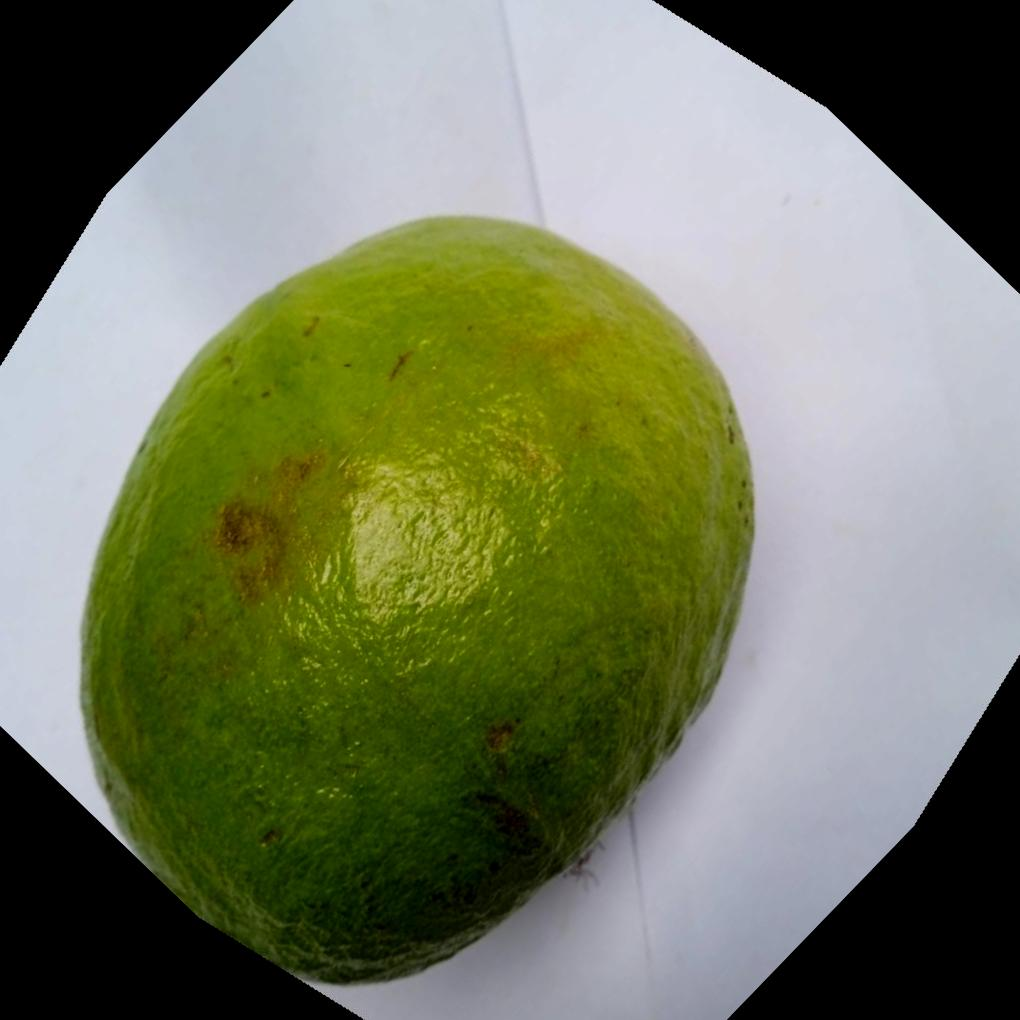FreshGuava: (80, 214, 759, 991)
